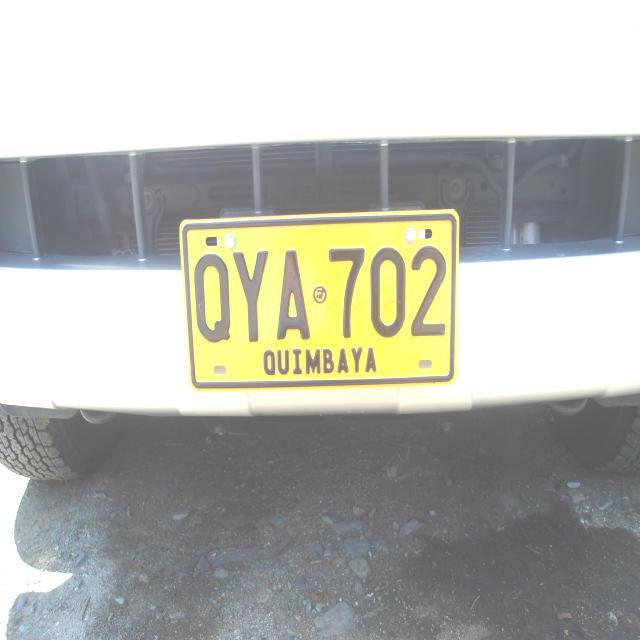placa: (176, 206, 462, 393)
